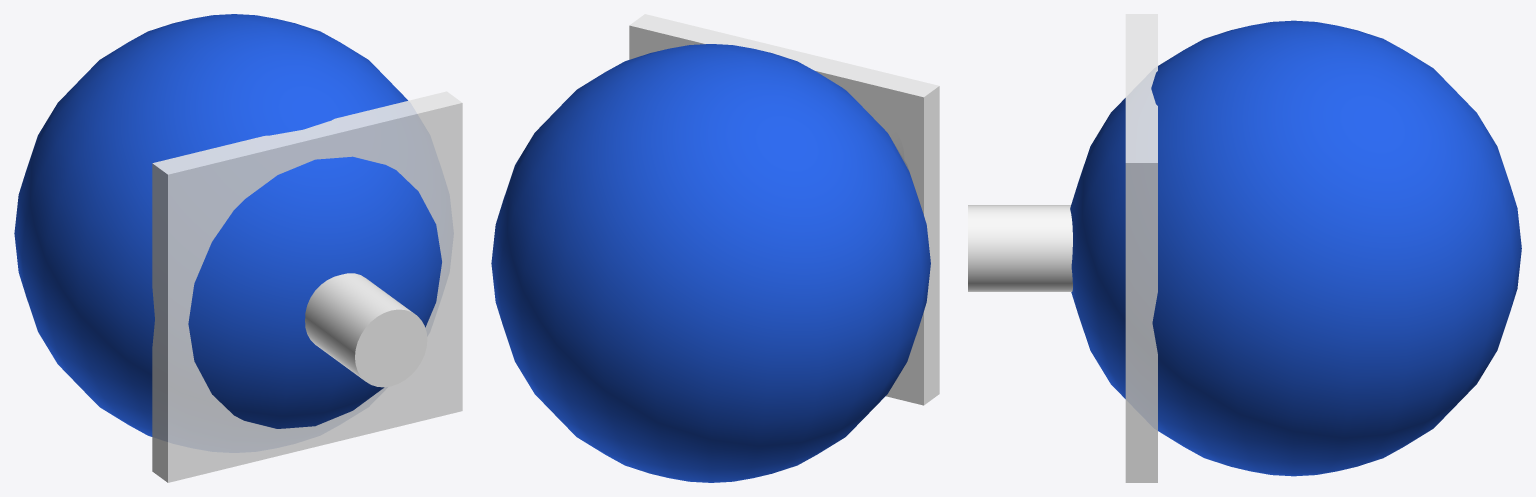
File: water-pipe.glb
3 views of the same model, side by side, from view 1: azimuth 30°, elevation 25°; view 2: azimuth 150°, elevation 25°; view 3: azimuth 270°, elevation 25° (orthographic). The views are drawn at different scales.
Parts seen in each view (by area): view 1: water-pipe; view 2: water-pipe; view 3: water-pipe.
Boxes of the visible parts, bbox=[...] form: water-pipe: bbox=[14, 14, 462, 482]; water-pipe: bbox=[491, 14, 939, 482]; water-pipe: bbox=[968, 14, 1521, 482].
Bounding box in the file's own units: 0.84 × 0.84 × 1.02.
